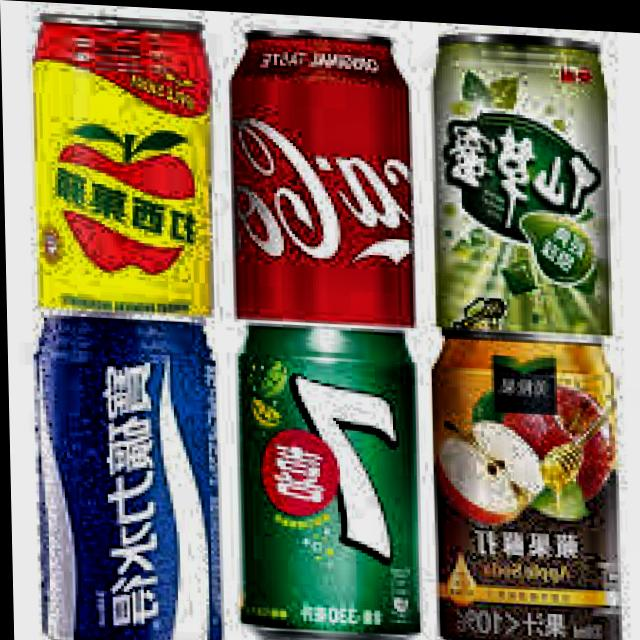can: (26, 300, 222, 640), (23, 3, 222, 329), (220, 9, 421, 331), (230, 309, 425, 640), (426, 313, 623, 640), (426, 17, 622, 339)
